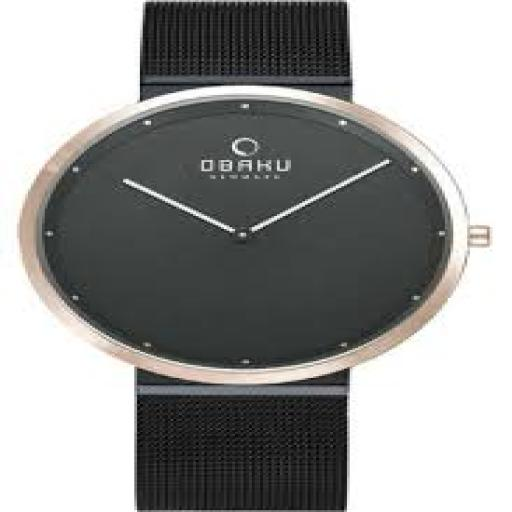KolSaati: (13, 1, 512, 512)
